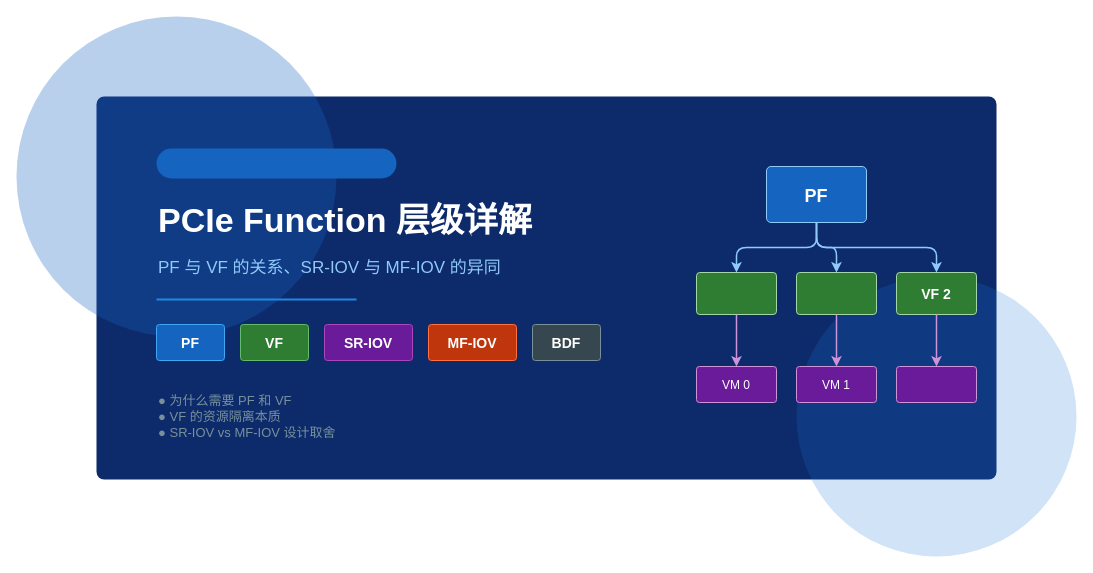
Some shapes in this 1093 by 573 pixel diagram are drawn without their labels. Each missing label, with the centre of its shape:
"VF 0" belongs at point (736, 293).
"VF 1" belongs at point (836, 293).
"VM 2" belongs at point (936, 384).
"芯片验证 · PCIe · 虚拟化" belongs at point (276, 163).
